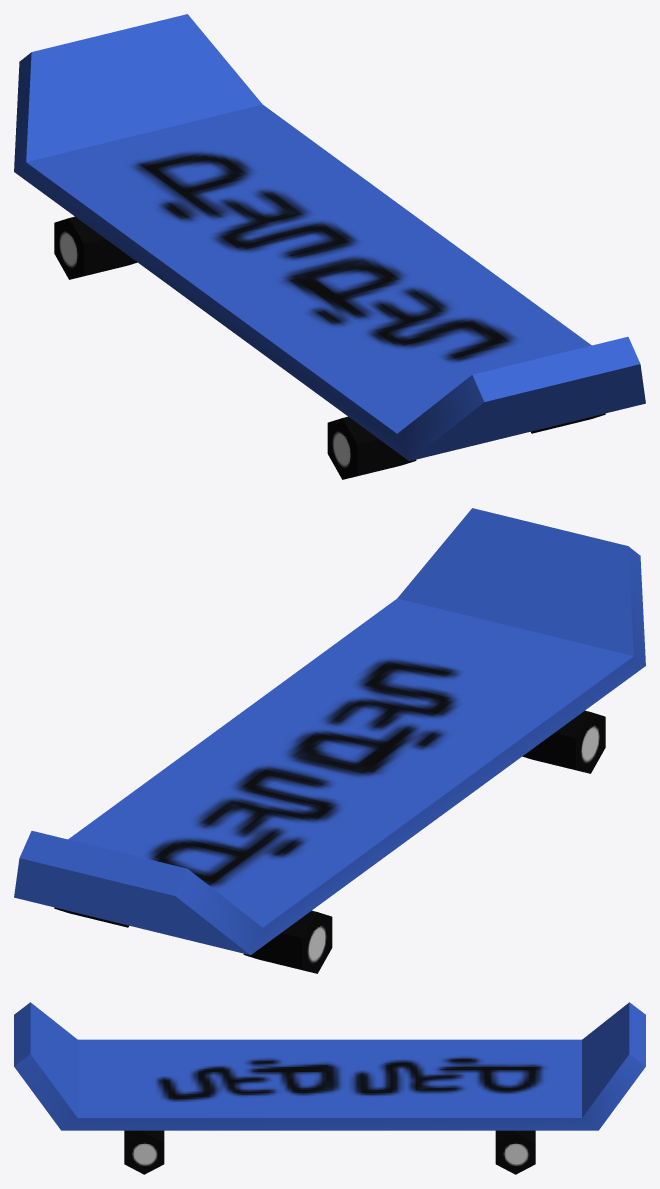
Rendered from Skateboard.fbx.
The picture shows the model from 3 angles, top to bottom: view 1: azimuth 30°, elevation 25°; view 2: azimuth 150°, elevation 25°; view 3: azimuth 270°, elevation 25°; orthographic projection. The views are drawn at different scales.
Visible parts, largest first — view 1: Skateboard; view 2: Skateboard; view 3: Skateboard.
Boxes of the visible parts, x1,y1,x2,y2 form: Skateboard: (14,14,645,479); Skateboard: (14,508,645,973); Skateboard: (14,1002,645,1174).
Bounding box in the file's own units: 84 × 50.17 × 272.
